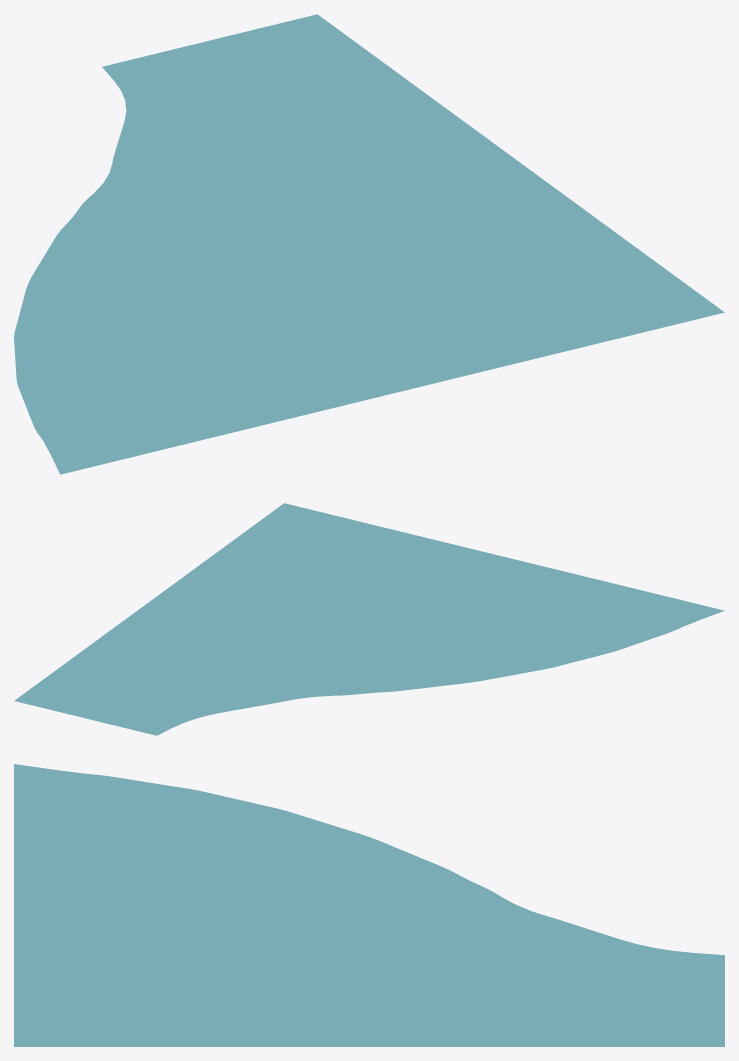
3 views of the same model, one above another, from view 1: azimuth 30°, elevation 25°; view 2: azimuth 150°, elevation 25°; view 3: azimuth 270°, elevation 25° (orthographic). The views are drawn at different scales.
Parts seen in each view (by area): view 1: city; view 2: city; view 3: city.
Boxes of the visible parts, box(x1,y1,x2,y2) form: city: box(14, 14, 724, 474); city: box(14, 503, 724, 735); city: box(14, 764, 724, 1046).
Bounding box in the file's own units: 471 × 0 × 500.
